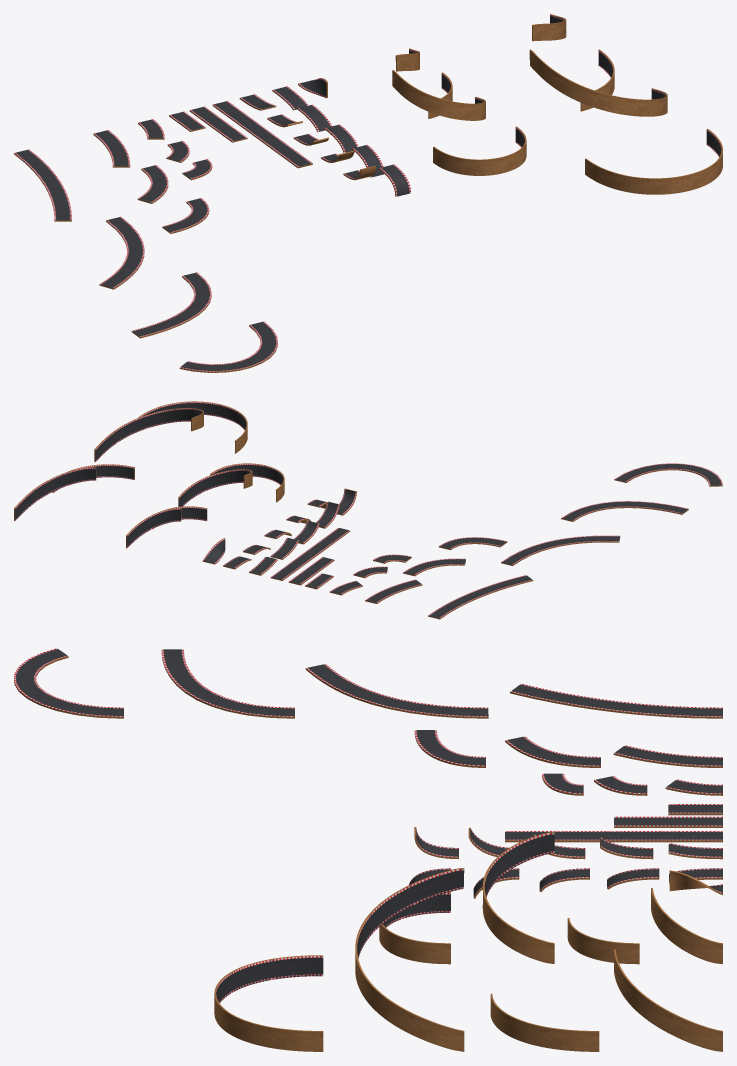
Rendered from low_poly_modular_roads.glb.
3 renders of one model, top to bottom at view 1: azimuth 30°, elevation 25°; view 2: azimuth 150°, elevation 25°; view 3: azimuth 270°, elevation 25°, orthographic. The views are drawn at different scales.
Visible parts, largest first — view 1: Road Twist Large 180, Road Twist Up Large 180, Road Twist 180, Road Twist Up 180, Road Corner Long 4, Road Flat Long, Road Corner Long 3, Road Corner Long 2, Road Corner Long 1, Road Flat Medium, Road Corner Medium 3, Road Corner Medium 2 (+2 smaller); view 2: Road Twist Up Large 180, Road Twist Up Large 90, Road Twist Large 180, Road Twist Up 180, Road Corner Long 3, Road Corner Long 2, Road Corner Long 4, Road Corner Long 1, Road Flat Long, Road Twist Up 90, Road Twist 180, Road Twist Large 90 (+5 smaller); view 3: Road Twist Up Large 180, Road Twist Large 180, Road Twist Up 180, Road Twist Up Large 90, Road Corner Long 1, Road Corner Long 2, Road Twist 180, Road Twist Large 90, Road Corner Long 4, Road Corner Long 3, Road Flat Long, Road Twist Up 90 (+11 smaller).
Part boxes in pixels (x1=…): Road Twist Large 180: x1=585, y1=129, x2=722, y2=194; Road Twist Up Large 180: x1=529, y1=49, x2=667, y2=116; Road Twist 180: x1=433, y1=126, x2=526, y2=175; Road Twist Up 180: x1=392, y1=70, x2=485, y2=120; Road Corner Long 4: x1=179, y1=321, x2=277, y2=372; Road Flat Long: x1=212, y1=101, x2=312, y2=168; Road Corner Long 3: x1=131, y1=272, x2=211, y2=338; Road Corner Long 2: x1=99, y1=216, x2=144, y2=289; Road Corner Long 1: x1=14, y1=149, x2=71, y2=221; Road Flat Medium: x1=189, y1=106, x2=247, y2=142; Road Corner Medium 3: x1=162, y1=198, x2=209, y2=233; Road Corner Medium 2: x1=137, y1=165, x2=168, y2=203; Road Twist Up Large 180: x1=94, y1=408, x2=203, y2=461; Road Twist Up Large 90: x1=14, y1=467, x2=96, y2=520; Road Twist Large 180: x1=138, y1=401, x2=247, y2=453; Road Twist Up 180: x1=178, y1=469, x2=252, y2=506; Road Corner Long 3: x1=561, y1=501, x2=688, y2=521; Road Corner Long 2: x1=501, y1=535, x2=620, y2=565; Road Corner Long 4: x1=614, y1=463, x2=722, y2=486; Road Corner Long 1: x1=428, y1=575, x2=533, y2=619; Road Flat Long: x1=270, y1=527, x2=350, y2=580; Road Twist Up 90: x1=126, y1=508, x2=181, y2=548; Road Twist 180: x1=210, y1=463, x2=284, y2=502; Road Twist Large 90: x1=52, y1=464, x2=134, y2=492; Road Twist Up Large 180: x1=355, y1=868, x2=464, y2=1051; Road Twist Large 180: x1=214, y1=955, x2=323, y2=1051; Road Twist Up 180: x1=482, y1=832, x2=554, y2=963; Road Twist Up Large 90: x1=614, y1=949, x2=722, y2=1051; Road Corner Long 1: x1=510, y1=683, x2=722, y2=718; Road Corner Long 2: x1=305, y1=664, x2=488, y2=718; Road Twist 180: x1=379, y1=892, x2=450, y2=964; Road Twist Large 90: x1=490, y1=993, x2=599, y2=1051; Road Corner Long 4: x1=14, y1=648, x2=123, y2=718; Road Corner Long 3: x1=161, y1=649, x2=294, y2=718; Road Flat Long: x1=505, y1=831, x2=722, y2=842; Road Twist Up 90: x1=651, y1=888, x2=722, y2=964.
Bounding box in the file's own units: 8.83 × 1.24 × 6.72.
2 materials, 2 textured.
